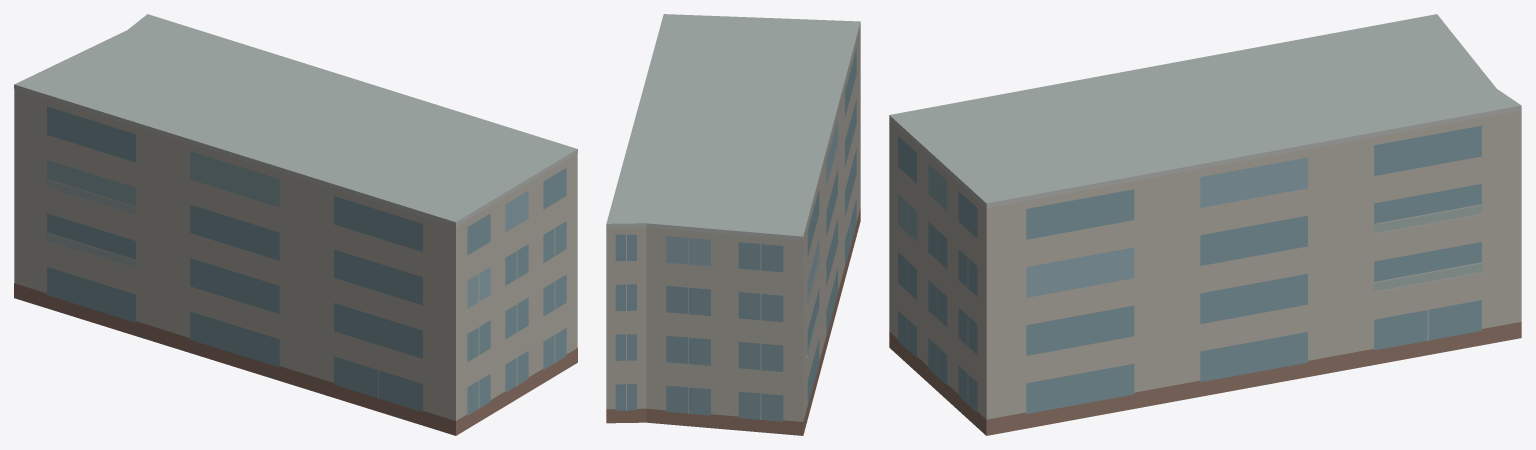
File: residential-1142aaab-2b22-4d92-aec4-d3c54b28ec17.glb
3 renders of one model, left to right at view 1: azimuth 30°, elevation 25°; view 2: azimuth 150°, elevation 25°; view 3: azimuth 270°, elevation 25°, orthographic. The views are drawn at different scales.
Parts seen in each view (by area): view 1: residential-1142aaab-2b22-4d92-aec4-d3c54b28ec17.tmp; view 2: residential-1142aaab-2b22-4d92-aec4-d3c54b28ec17.tmp; view 3: residential-1142aaab-2b22-4d92-aec4-d3c54b28ec17.tmp.
Boxes of the visible parts, x1,y1,x2,y2 form: residential-1142aaab-2b22-4d92-aec4-d3c54b28ec17.tmp: [14, 14, 577, 435]; residential-1142aaab-2b22-4d92-aec4-d3c54b28ec17.tmp: [606, 14, 860, 435]; residential-1142aaab-2b22-4d92-aec4-d3c54b28ec17.tmp: [889, 14, 1521, 435].
Bounding box in the file's own units: 21.32 × 12.2 × 30.08.
